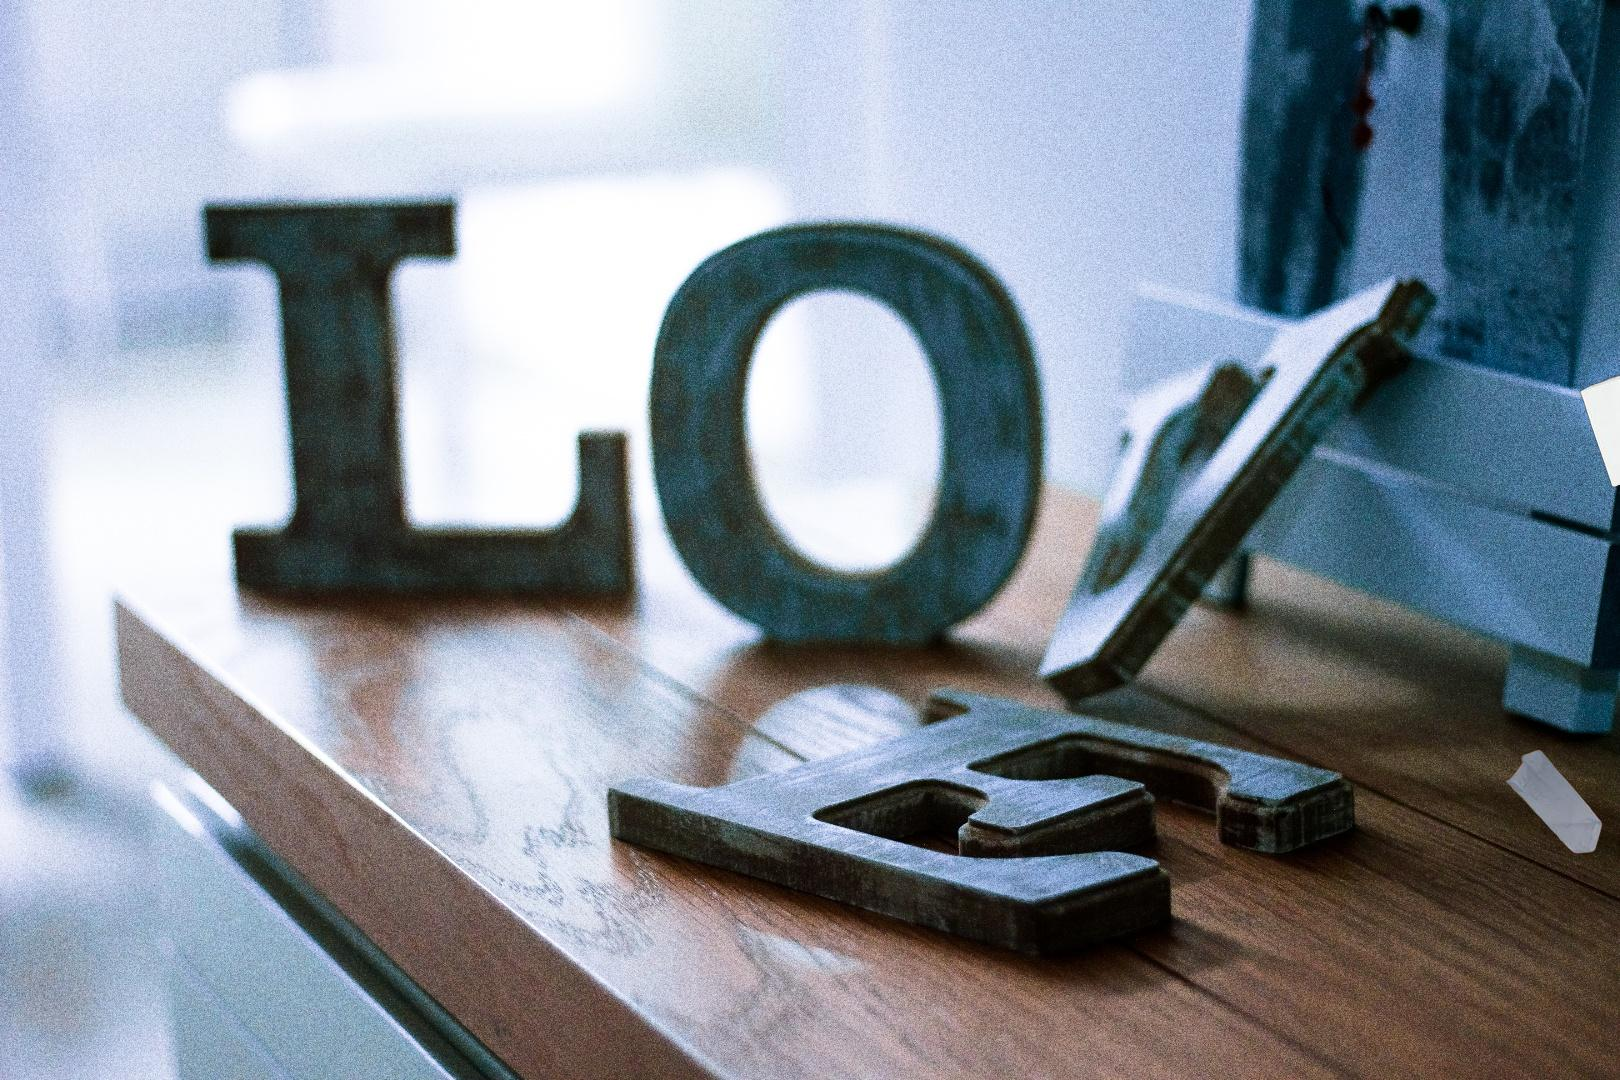paper-bag: (1578, 341, 1620, 560)
plastic-bag: (1495, 600, 1606, 855)
